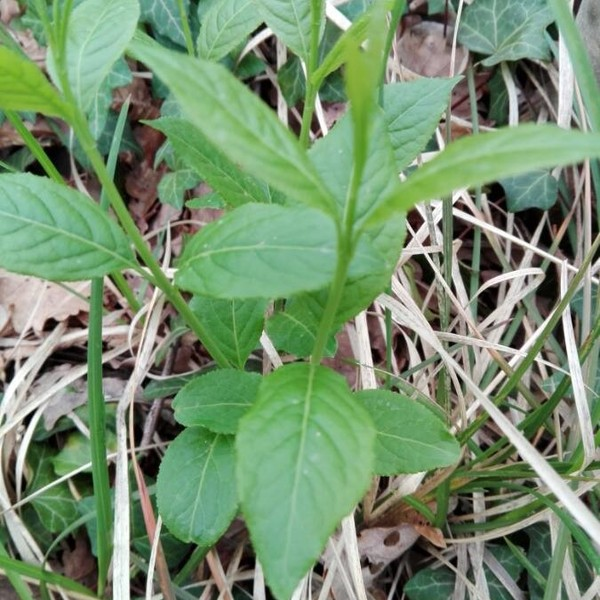obstacle: (79, 87, 460, 533)
